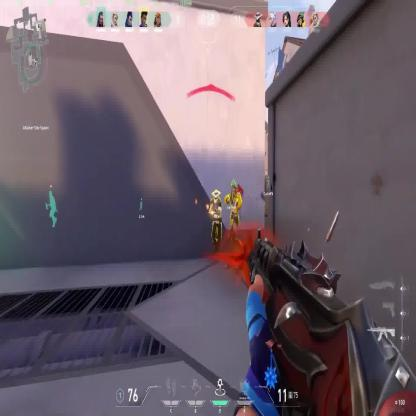enemy: (224, 179, 242, 259), (208, 189, 223, 258)
enemy_head: (211, 189, 221, 200), (231, 179, 236, 196)
